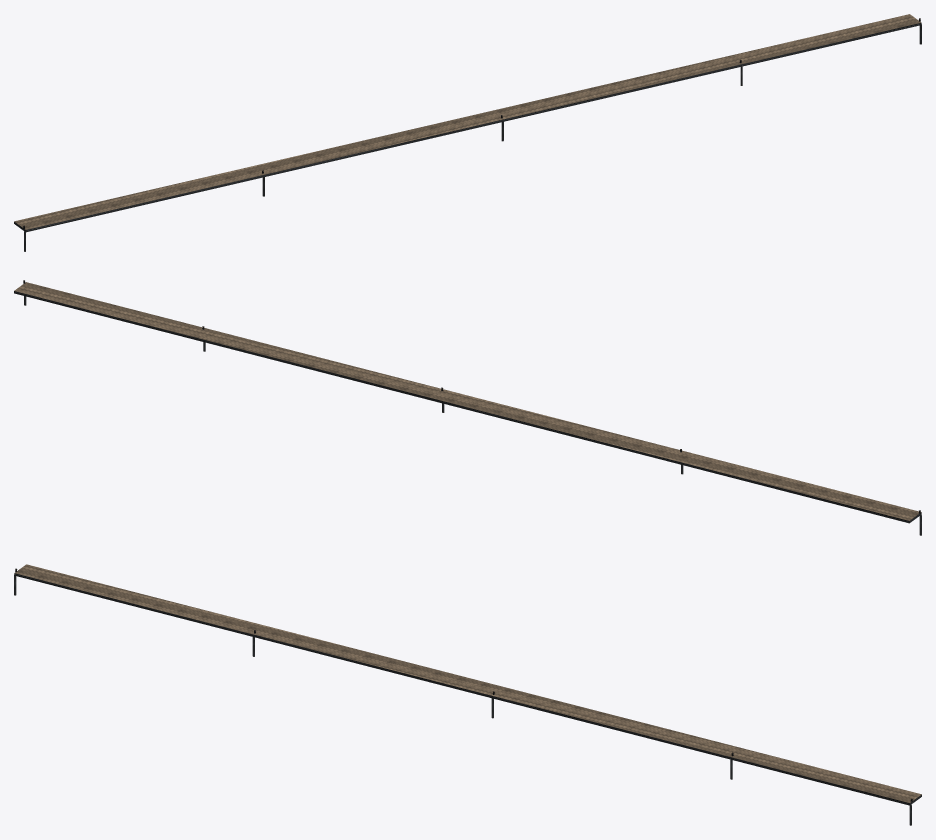
Rendered from SM_Molo_Pontiletto_Sud_LOD2.fbx.
The picture shows the model from 3 angles, top to bottom: view 1: azimuth 30°, elevation 25°; view 2: azimuth 150°, elevation 25°; view 3: azimuth 330°, elevation 25°; orthographic projection. The views are drawn at different scales.
Visible parts, largest first — view 1: SM_Molo_Pontiletto_Sud_LOD2; view 2: SM_Molo_Pontiletto_Sud_LOD2; view 3: SM_Molo_Pontiletto_Sud_LOD2.
Boxes of the visible parts, x1,y1,x2,y2 form: SM_Molo_Pontiletto_Sud_LOD2: [14, 14, 921, 251]; SM_Molo_Pontiletto_Sud_LOD2: [14, 280, 921, 535]; SM_Molo_Pontiletto_Sud_LOD2: [14, 564, 921, 825].
Size of the model in its own units: 7800 by 356 by 209.
2 materials, 2 textured.
